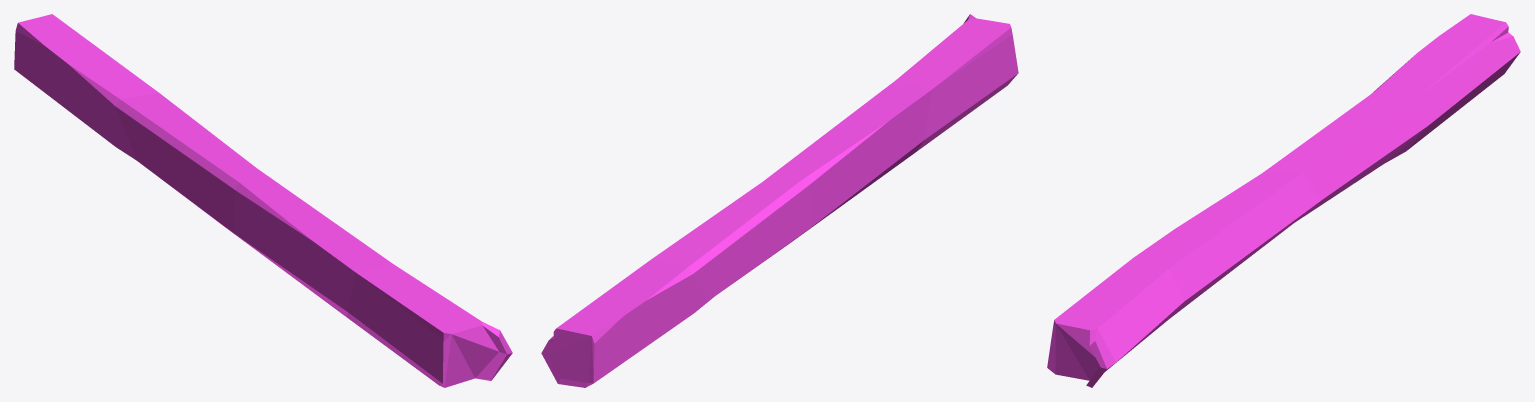
The model's file is SM_Wood_Timber_B_Fantasy.fbx.
3 views of the same model, side by side, from view 1: azimuth 30°, elevation 25°; view 2: azimuth 150°, elevation 25°; view 3: azimuth 330°, elevation 25° (orthographic).
Parts seen in each view (by area): view 1: SM_Wood_Timber_B_Fantasy; view 2: SM_Wood_Timber_B_Fantasy; view 3: SM_Wood_Timber_B_Fantasy.
Boxes of the visible parts, <box> form: SM_Wood_Timber_B_Fantasy: <box>14,14,512,387</box>; SM_Wood_Timber_B_Fantasy: <box>541,14,1018,387</box>; SM_Wood_Timber_B_Fantasy: <box>1047,14,1520,387</box>.
Size of the model in its own units: 0.4528 by 0.3662 by 5.21.
